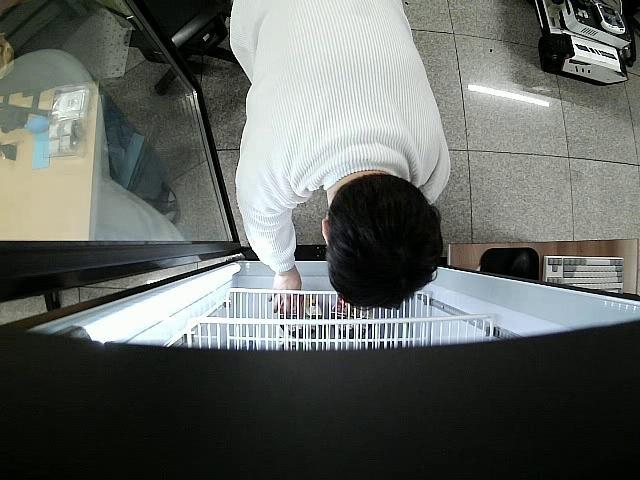07_buldak_L: (279, 296, 321, 337)
